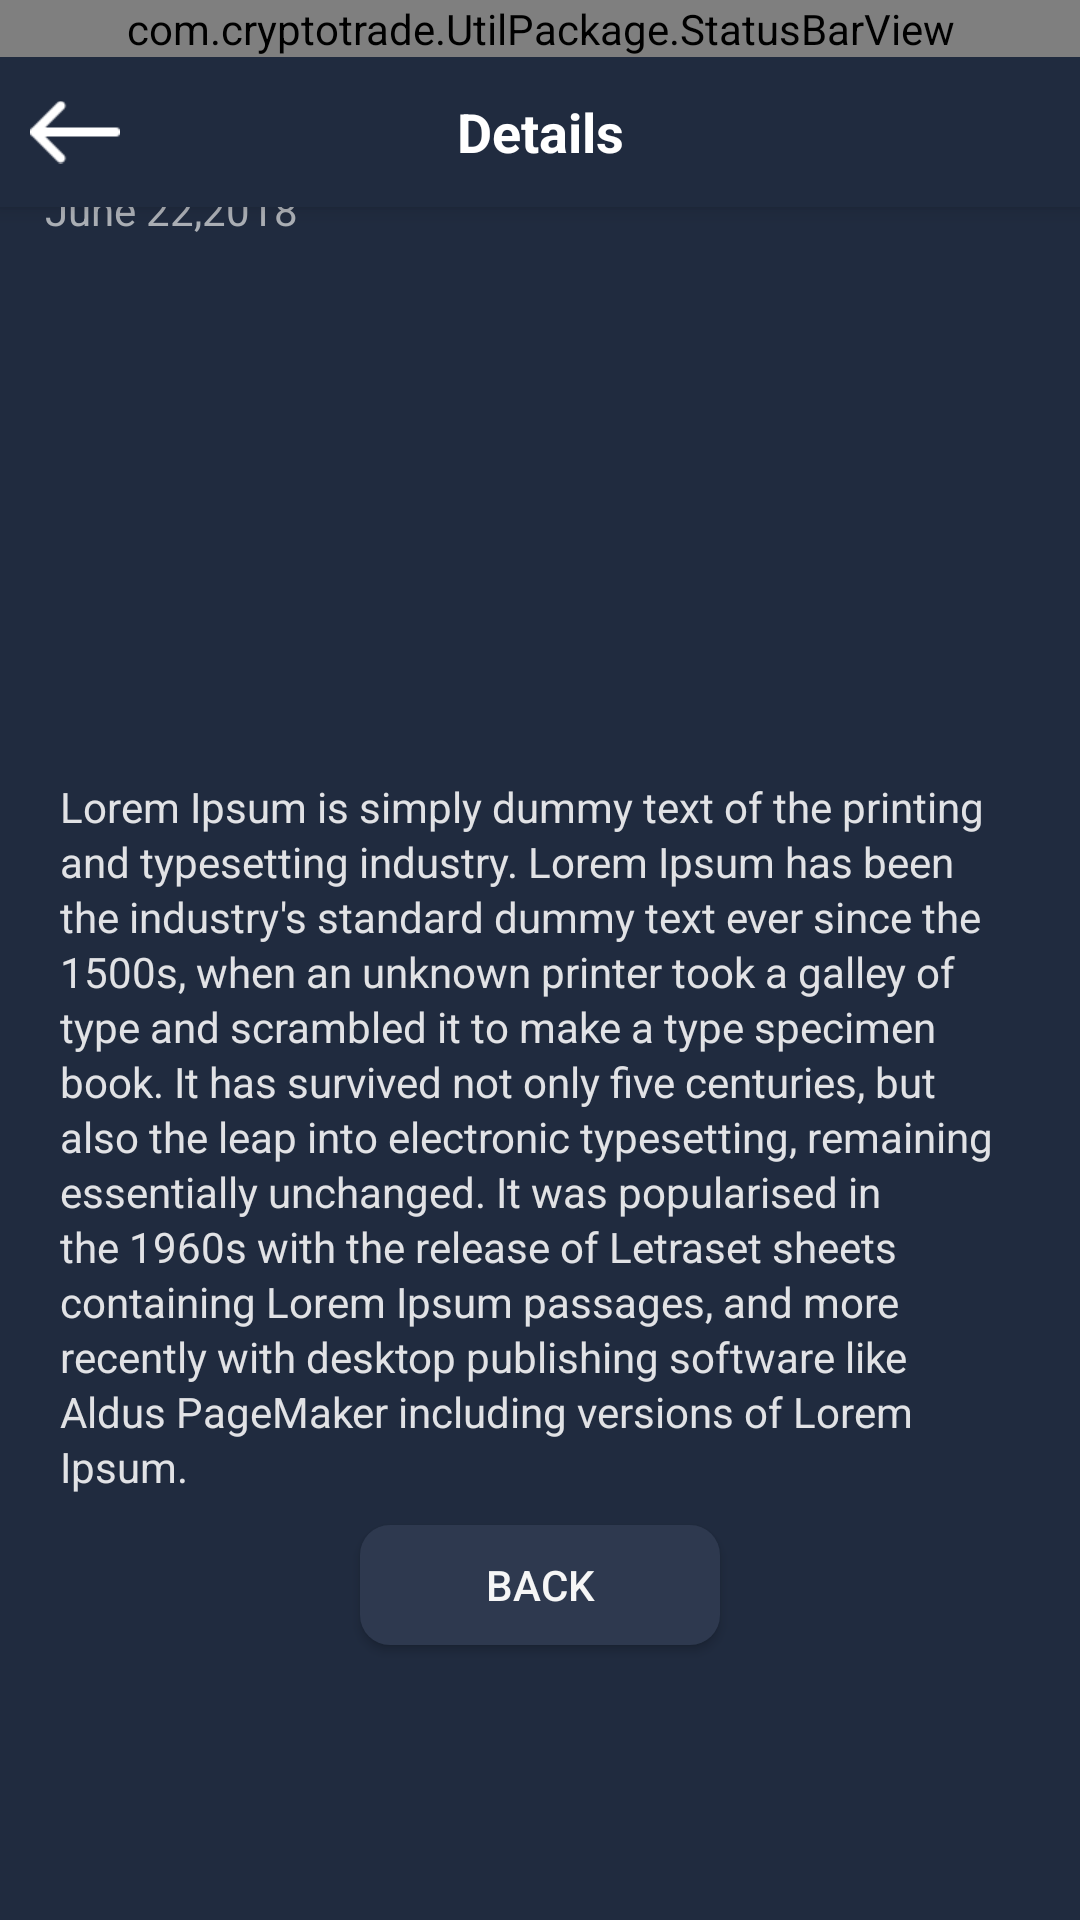

Icons on this 1080*1920 Android screen, each with the point to tap as (x,y):
back: (75,132)
